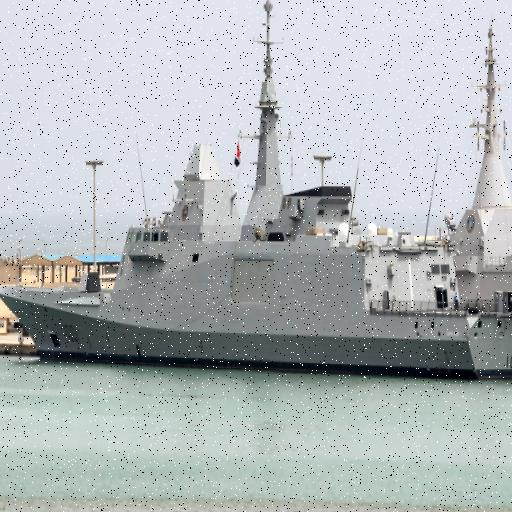Fragata: (1, 1, 512, 369)
